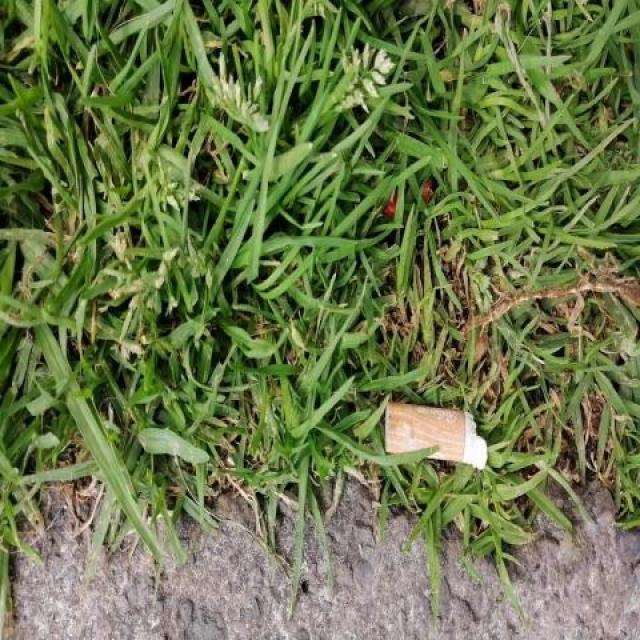non-organic waste: (379, 397, 492, 475)
